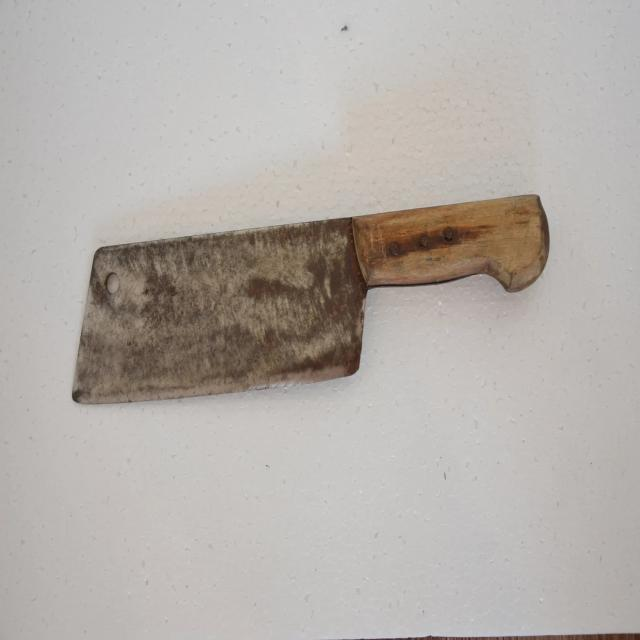cleaver: (73, 200, 540, 401)
